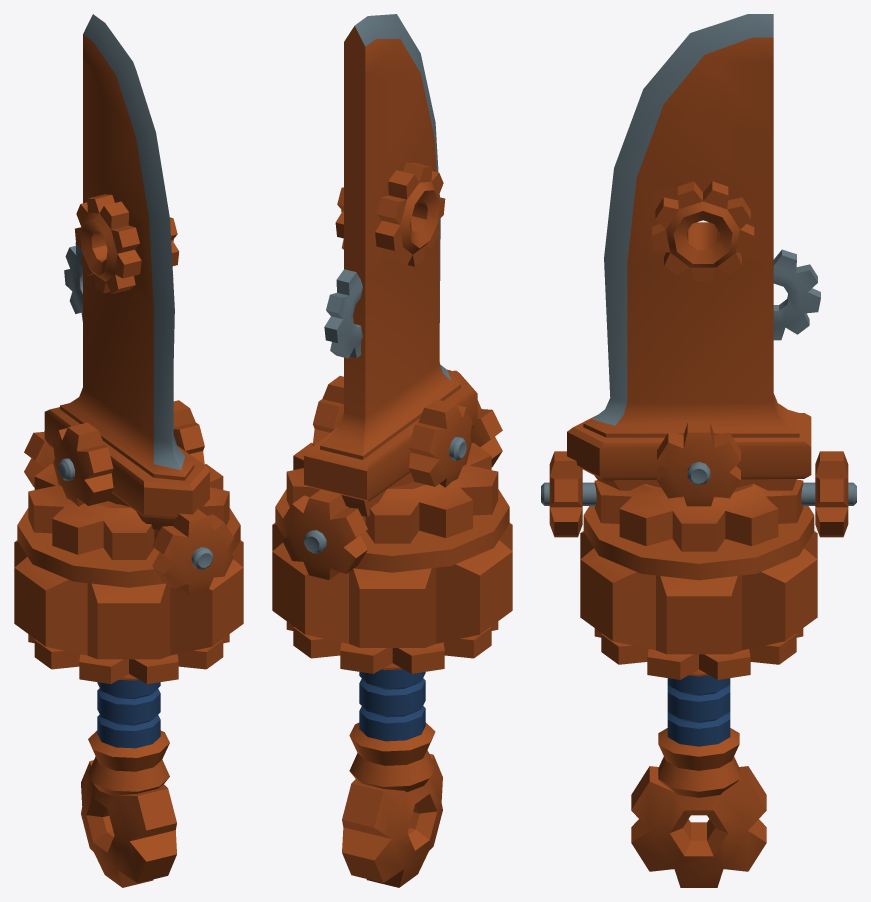
Rendered from gear_sword.obj.
3 renders of one model, left to right at view 1: azimuth 30°, elevation 25°; view 2: azimuth 150°, elevation 25°; view 3: azimuth 270°, elevation 25°, orthographic. The views are drawn at different scales.
Visible parts, largest first — view 1: gear_sword_Cylinder.152; view 2: gear_sword_Cylinder.152; view 3: gear_sword_Cylinder.152.
Part boxes in pixels (<box>): gear_sword_Cylinder.152: <box>14,14,243,887</box>; gear_sword_Cylinder.152: <box>272,14,512,887</box>; gear_sword_Cylinder.152: <box>541,14,856,887</box>.
Size of the model in its own units: 0.4748 by 1.92 by 0.6343.
